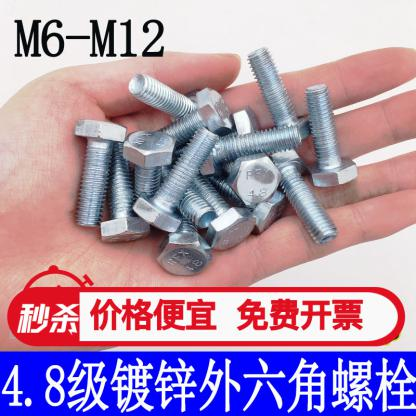FOD: (130, 124, 220, 235), (268, 146, 338, 247), (140, 86, 233, 158), (68, 117, 127, 230), (97, 131, 152, 246), (302, 84, 358, 188)
